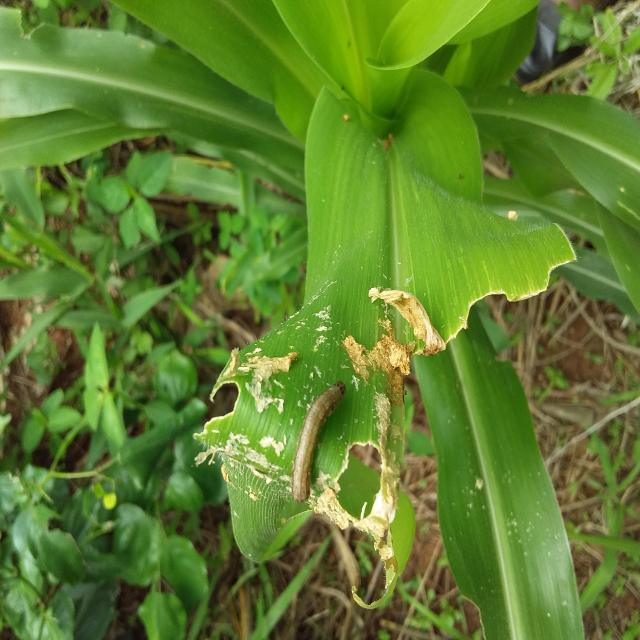yellow-stem-borer-larva: (273, 378, 361, 508)
